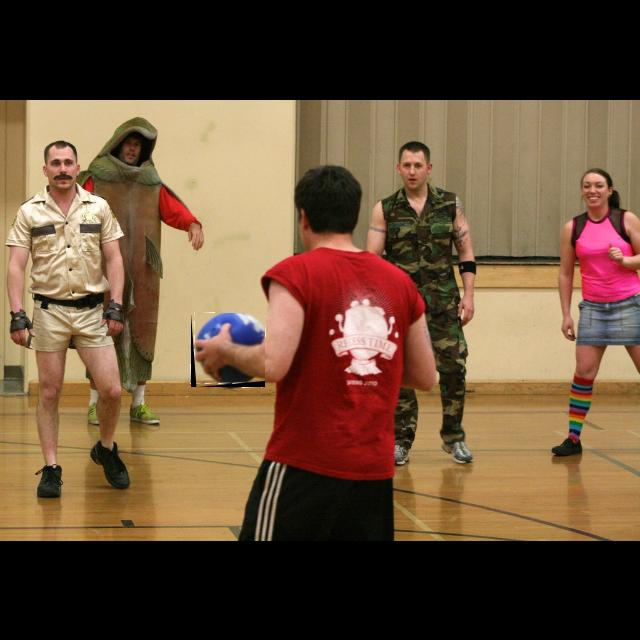Football: (191, 313, 265, 387)
